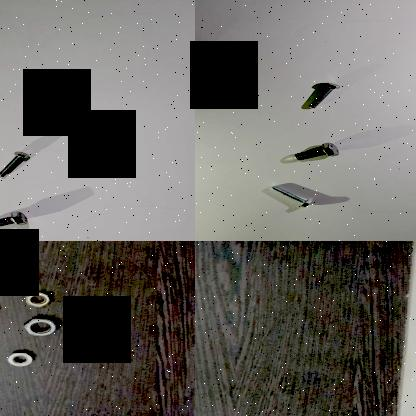Bolts: (301, 80, 349, 112), (288, 140, 344, 162), (268, 184, 315, 208), (0, 147, 31, 183), (0, 210, 33, 232), (195, 27, 206, 58)
NUTS: (19, 314, 61, 338), (62, 344, 96, 362), (1, 349, 35, 366), (22, 290, 53, 308), (0, 277, 19, 290)
